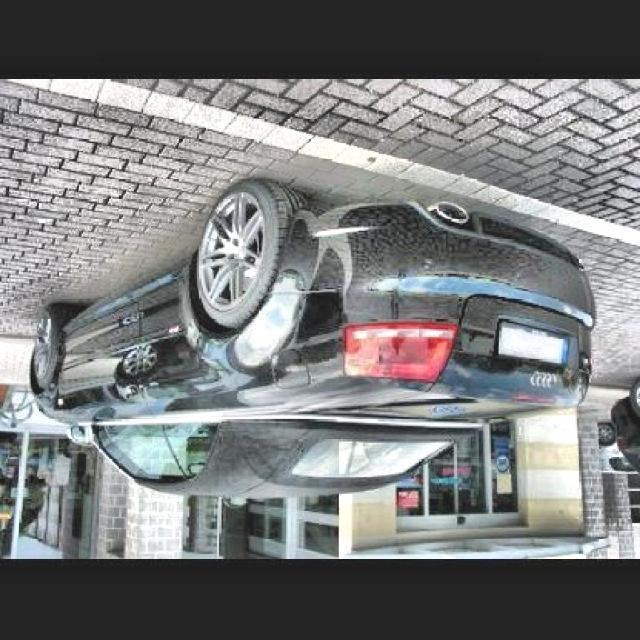black: (0, 220, 580, 497)
